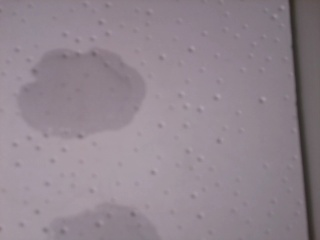Water_detected: (29, 52, 130, 130), (66, 204, 148, 240)
